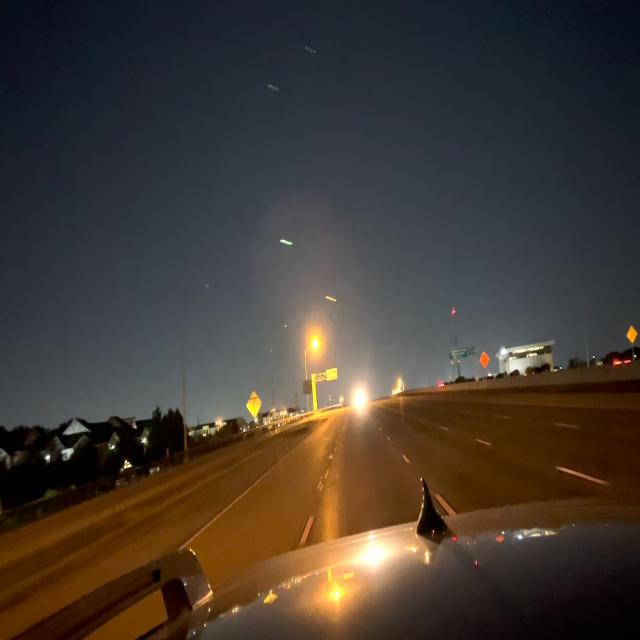back-of-sign: (245, 390, 263, 420)
